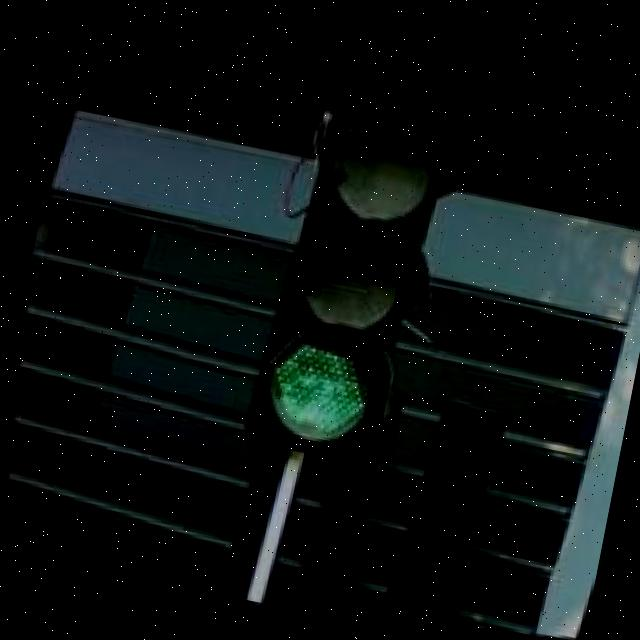green_light: (188, 68, 502, 504)
